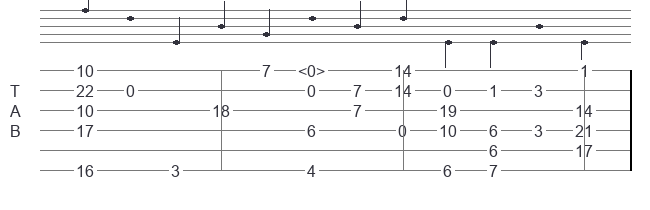0: (126, 82, 139, 98), (307, 82, 320, 98), (398, 122, 411, 138), (443, 82, 456, 98)
1: (489, 82, 502, 98), (580, 62, 593, 78)
10: (76, 62, 98, 78), (76, 102, 98, 118), (439, 122, 461, 138)
14: (394, 62, 416, 78), (394, 82, 416, 98), (575, 102, 597, 118)
16: (76, 162, 98, 178)
17: (76, 122, 98, 138), (575, 142, 597, 158)
18: (212, 102, 234, 118)
19: (439, 102, 461, 118)
21: (575, 122, 597, 138)
22: (76, 82, 98, 98)
3: (171, 162, 184, 178), (534, 82, 547, 98), (534, 122, 547, 138)
4: (307, 162, 320, 178)
6: (307, 122, 320, 138), (443, 162, 456, 178), (489, 142, 502, 158), (489, 122, 502, 138)
7: (262, 62, 275, 78), (353, 102, 366, 118), (353, 82, 366, 98), (489, 162, 502, 178)
harmonic: (298, 62, 329, 78)
